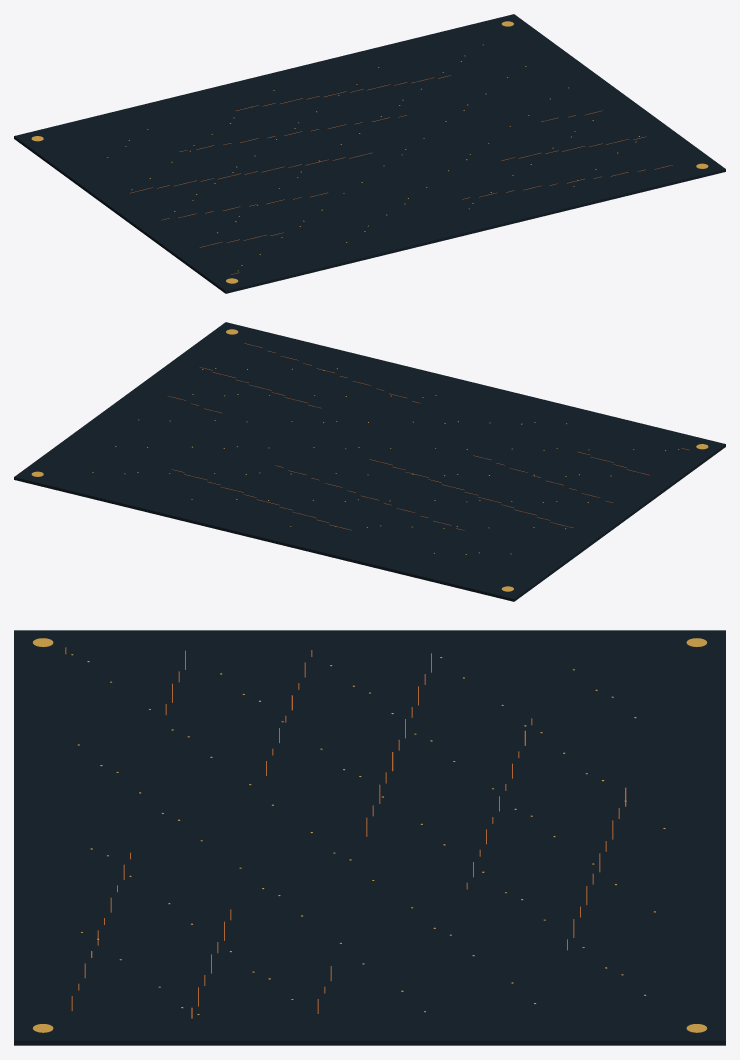
The model's file is 125_L109_TRX17_EmptyPCB.fbx.
The picture shows the model from 3 angles, top to bottom: view 1: azimuth 30°, elevation 25°; view 2: azimuth 150°, elevation 25°; view 3: azimuth 270°, elevation 25°; orthographic projection. The views are drawn at different scales.
Parts seen in each view (by area): view 1: L109_TRX17_EmptyPCB_PCB, L109_TRX17_EmptyPCB_COPPER; view 2: L109_TRX17_EmptyPCB_PCB, L109_TRX17_EmptyPCB_COPPER; view 3: L109_TRX17_EmptyPCB_PCB, L109_TRX17_EmptyPCB_COPPER, L109_TRX17_EmptyPCB_GOLD.
Part boxes in pixels (x1,y1,x2,y2): L109_TRX17_EmptyPCB_PCB: (14,14,725,293); L109_TRX17_EmptyPCB_COPPER: (130,75,672,274); L109_TRX17_EmptyPCB_PCB: (14,322,725,601); L109_TRX17_EmptyPCB_COPPER: (168,343,689,530); L109_TRX17_EmptyPCB_PCB: (14,630,725,1045); L109_TRX17_EmptyPCB_COPPER: (65,647,626,1018); L109_TRX17_EmptyPCB_GOLD: (32,638,707,1032).
Bounding box in the file's own units: 300 × 220 × 1.75.
